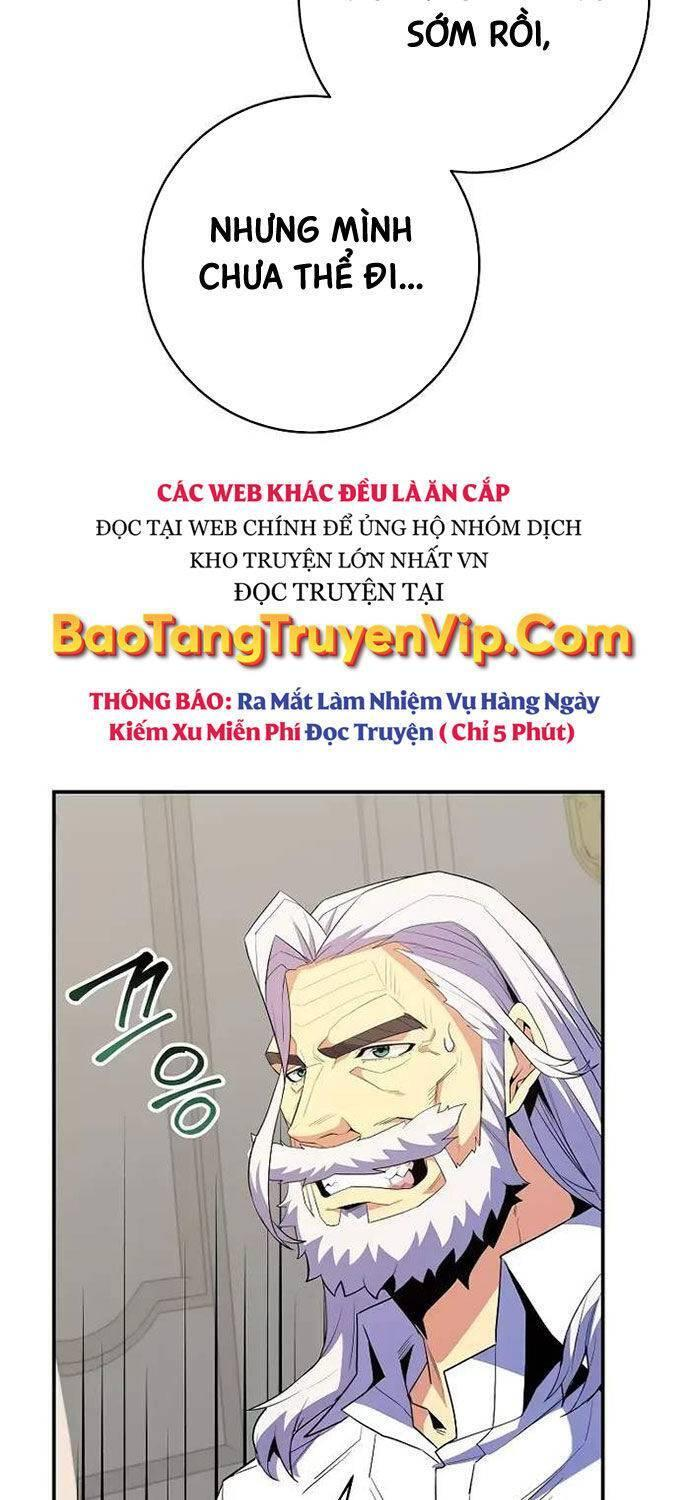quangcao: (48, 464, 640, 764)
